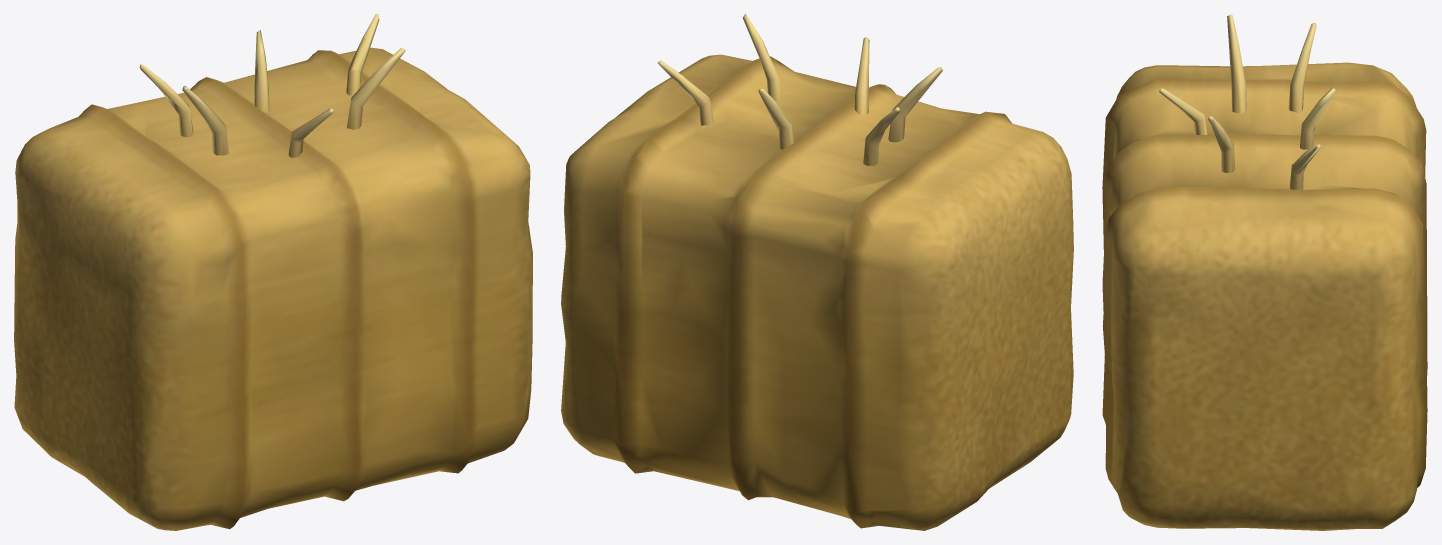
Rendered from hay-bale.glb.
The picture shows the model from 3 angles, left to right: view 1: azimuth 30°, elevation 25°; view 2: azimuth 150°, elevation 25°; view 3: azimuth 270°, elevation 25°; orthographic projection. The views are drawn at different scales.
Parts seen in each view (by area): view 1: straw; view 2: straw; view 3: straw.
Boxes of the visible parts, x1,y1,x2,y2 form: straw: (14, 14, 532, 530); straw: (561, 14, 1073, 530); straw: (1102, 14, 1427, 530).
Bounding box in the file's own units: 0.9129 × 0.8757 × 0.6634.
Materials: 1 (1 with a texture image).
